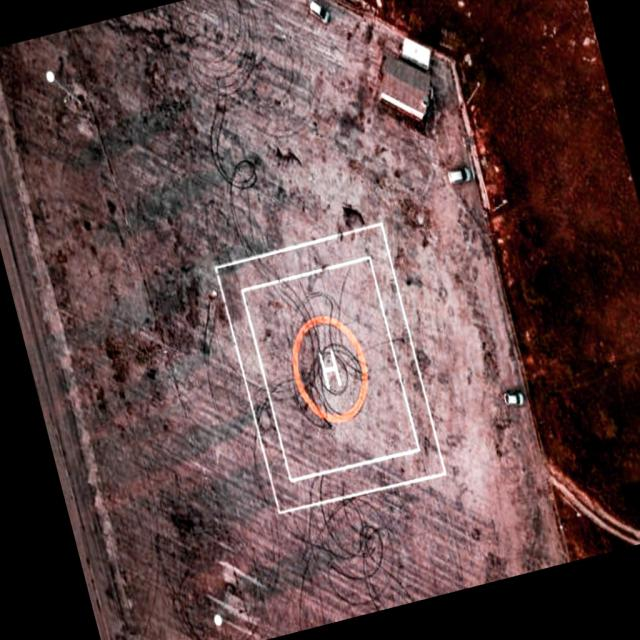helipad: (288, 309, 372, 427)
